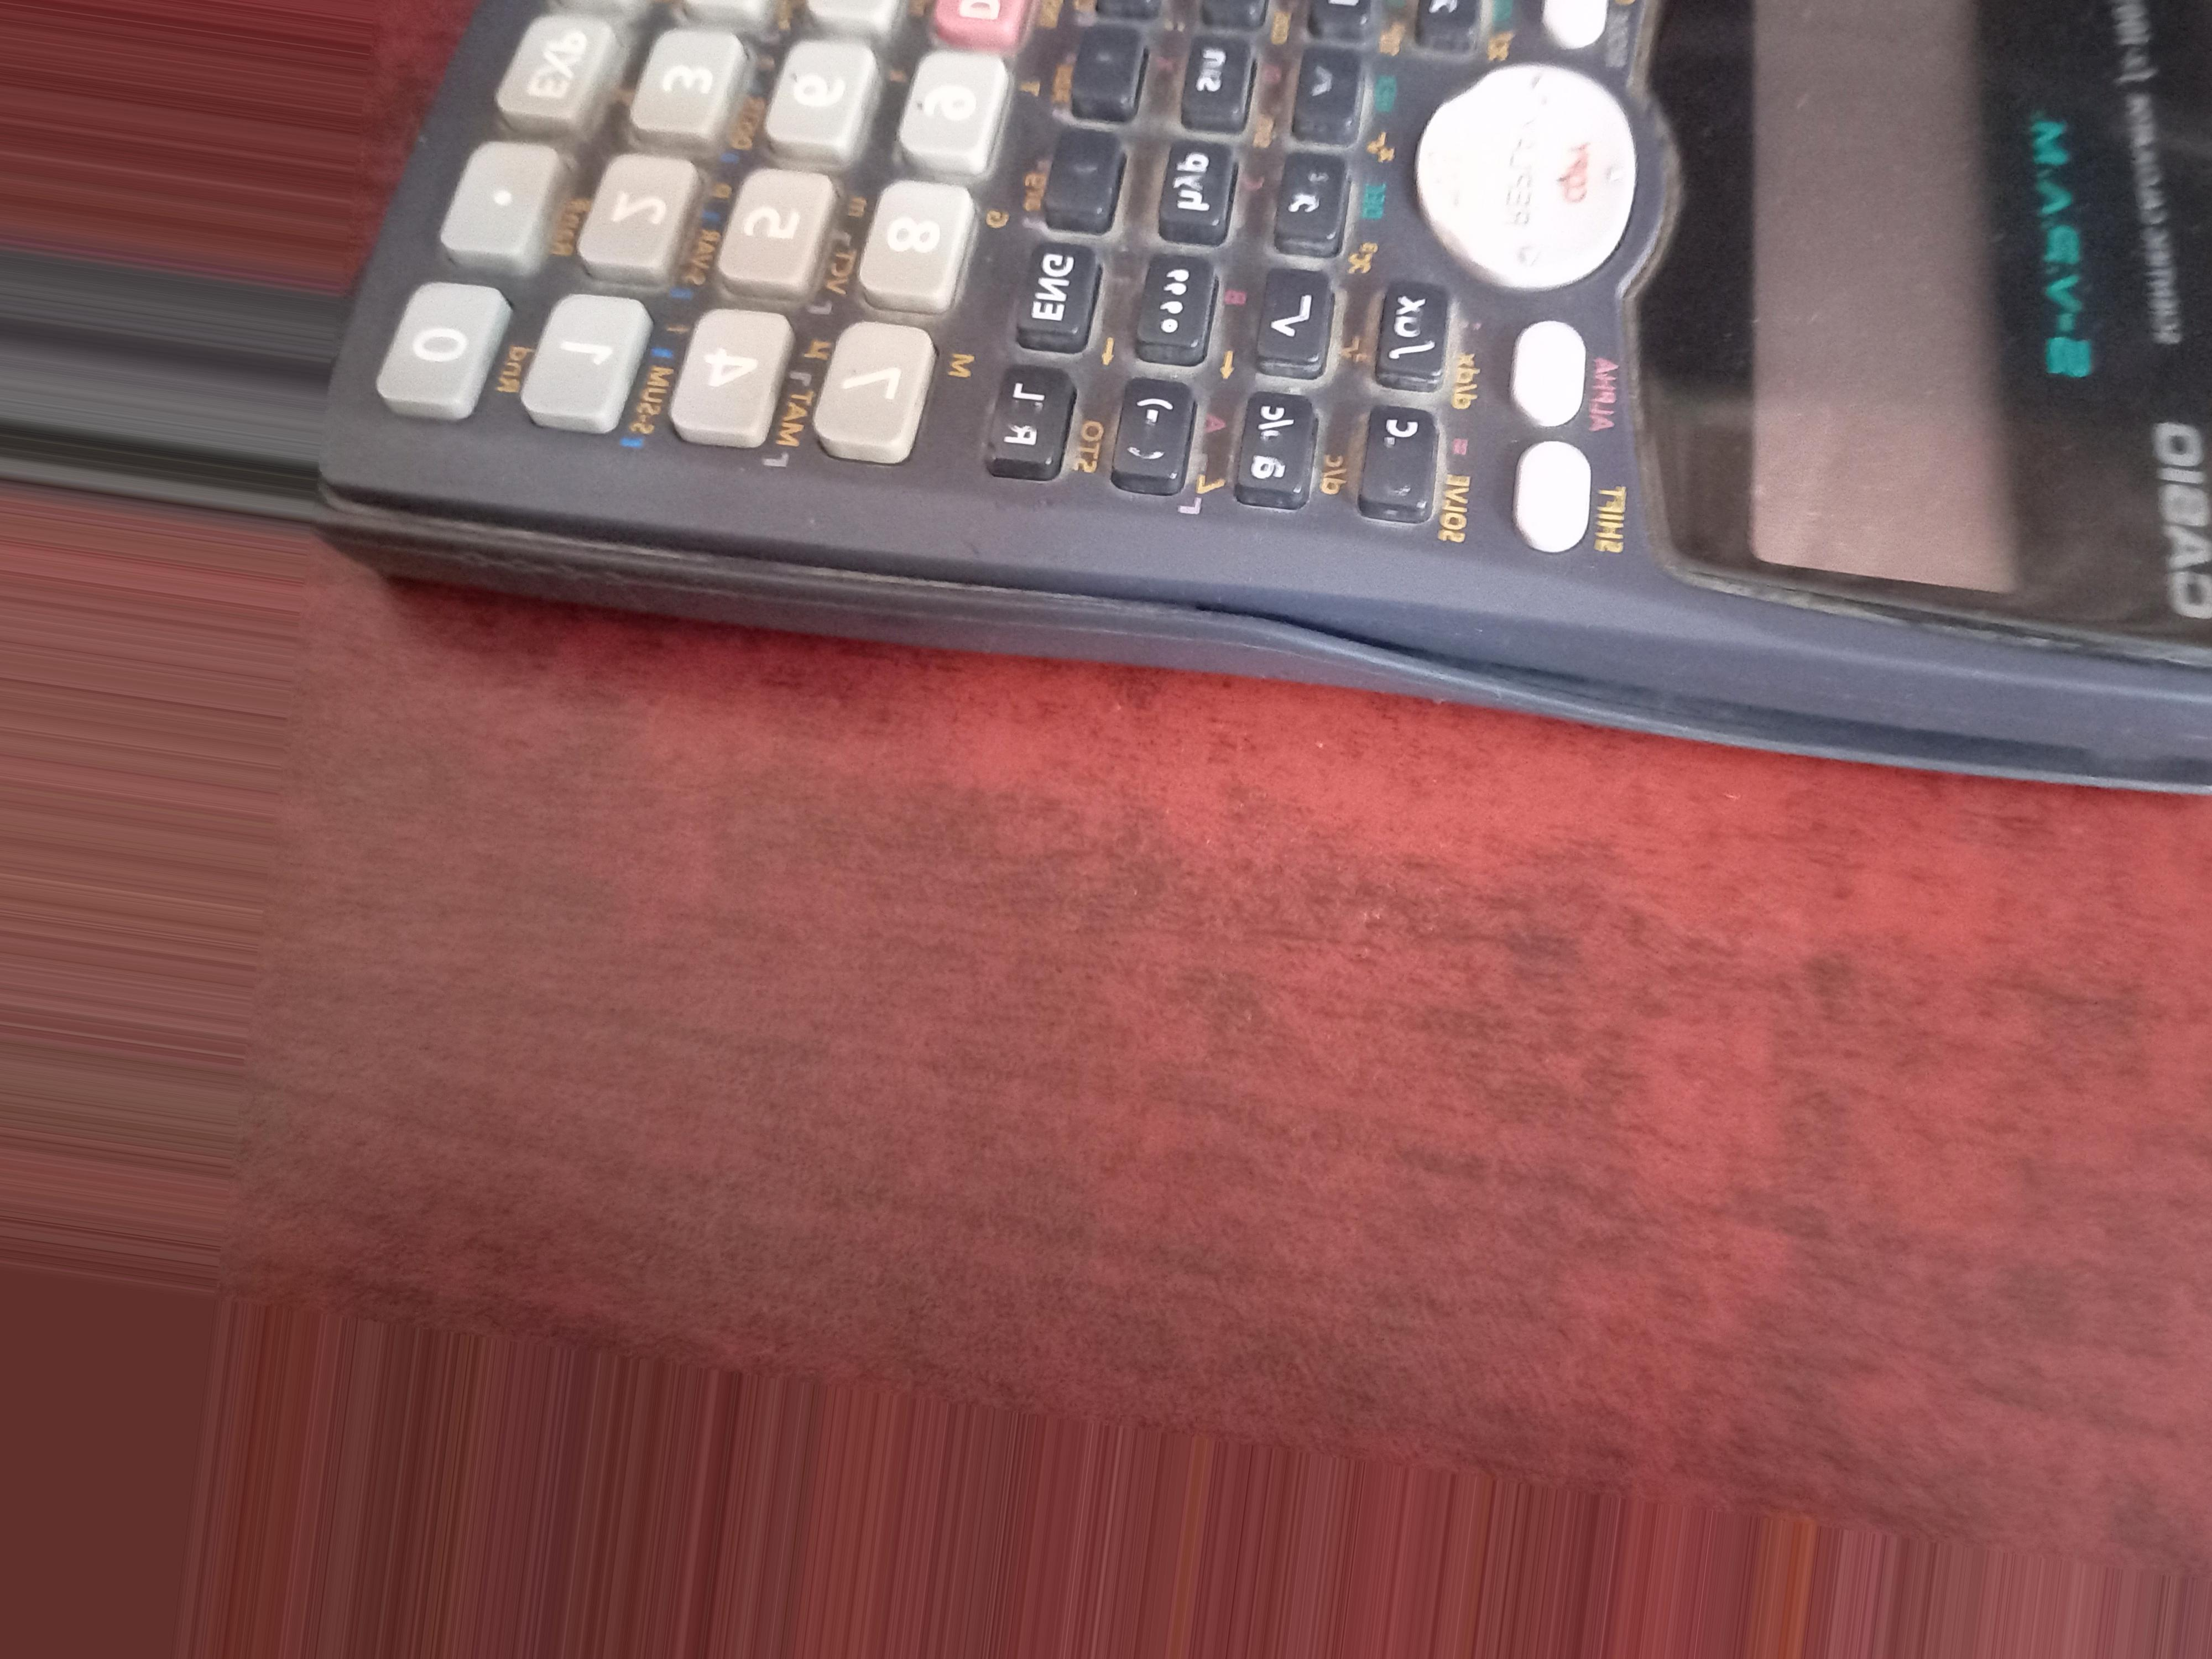calculator: (347, 0, 2207, 809)
